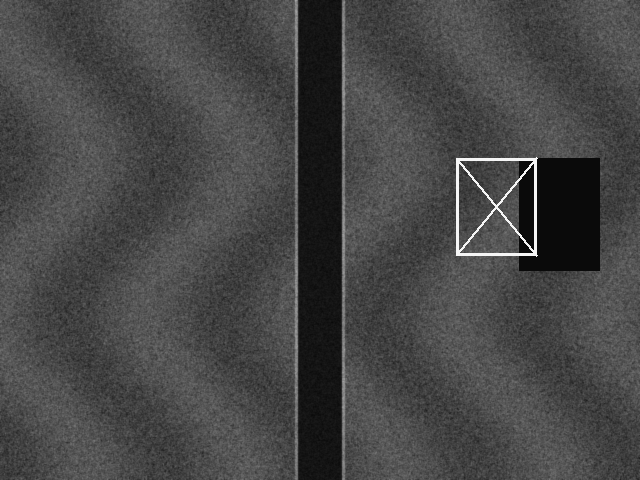Abandoned Equipment: (456, 158, 536, 255)
